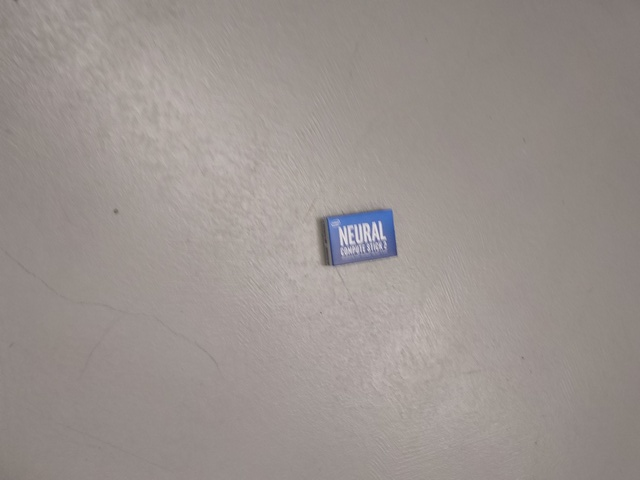box: (322, 207, 400, 268)
